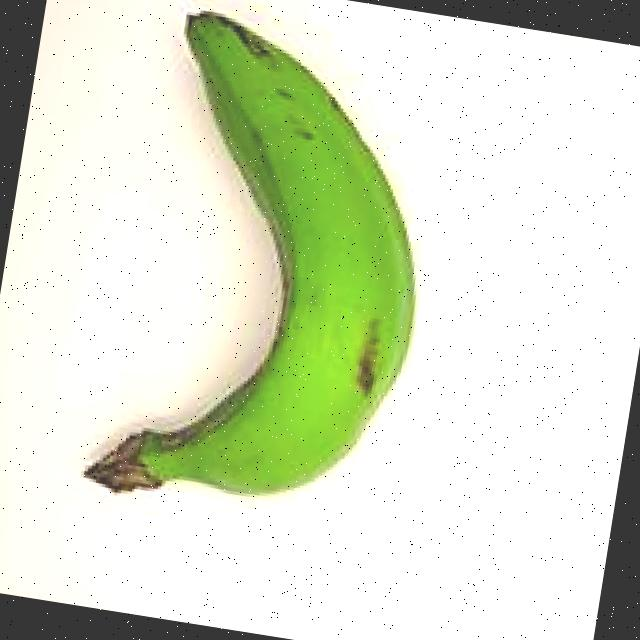Raw: (48, 0, 475, 570)
